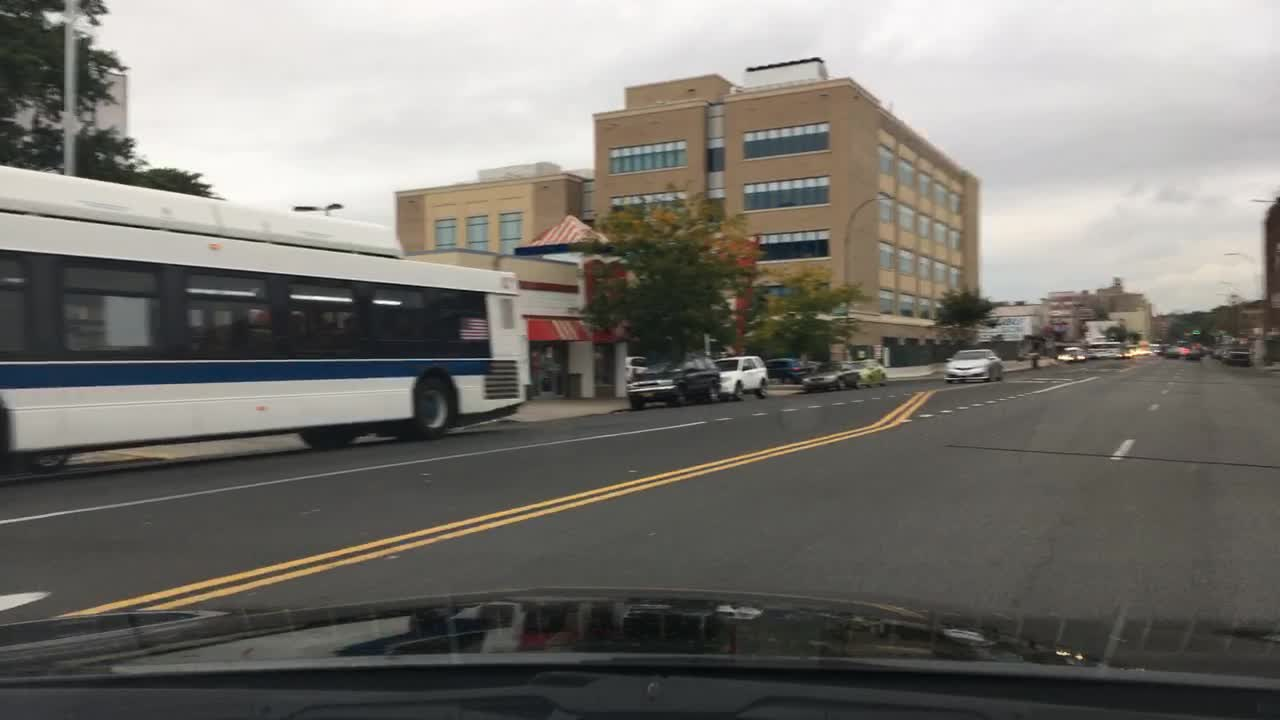bus: (0, 163, 526, 470), (1086, 339, 1123, 359)
car: (629, 353, 718, 410), (711, 353, 770, 399), (942, 346, 1003, 384), (847, 358, 890, 389), (807, 362, 851, 390), (764, 356, 810, 381), (626, 353, 655, 384), (1226, 347, 1249, 369), (1059, 346, 1086, 362), (1181, 344, 1204, 359), (1164, 341, 1184, 356), (1141, 341, 1157, 356), (1209, 344, 1227, 356), (1129, 341, 1143, 353), (1203, 344, 1215, 353)
person: (540, 346, 561, 393)
